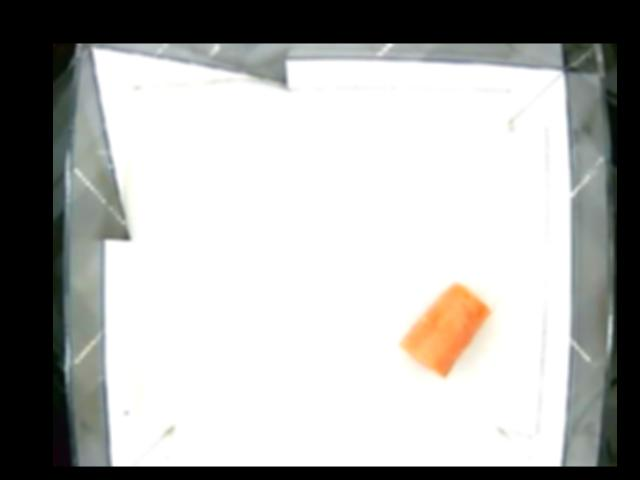Carrot: (397, 280, 490, 379)
